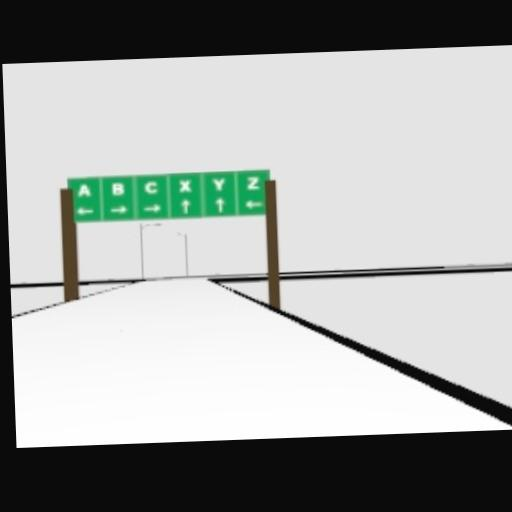A: (77, 184, 89, 196)
B: (110, 181, 124, 195)
C: (144, 179, 158, 194)
Left: (244, 198, 262, 208), (75, 206, 93, 214)
Right: (143, 202, 161, 212), (109, 203, 127, 213)
Straight: (180, 197, 190, 214), (214, 196, 224, 212)
X: (178, 178, 190, 191)
Y: (212, 177, 224, 189)
Z: (245, 176, 259, 188)
